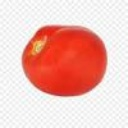tomato: (23, 27, 109, 95)
